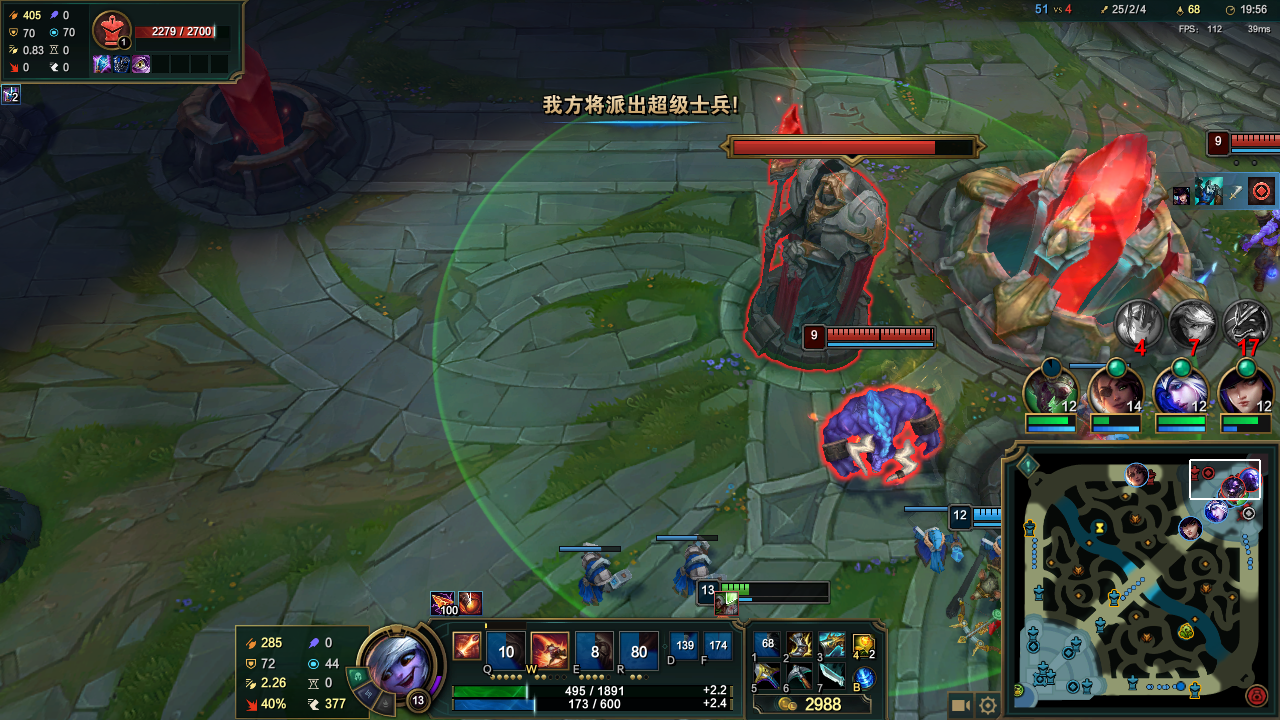DFDSJ: (973, 135, 1194, 300)
DFFYT: (730, 141, 901, 368)
DFYX: (823, 322, 936, 353), (1222, 130, 1276, 161)
WFXB: (655, 525, 717, 595), (563, 539, 630, 600), (897, 514, 966, 569)
